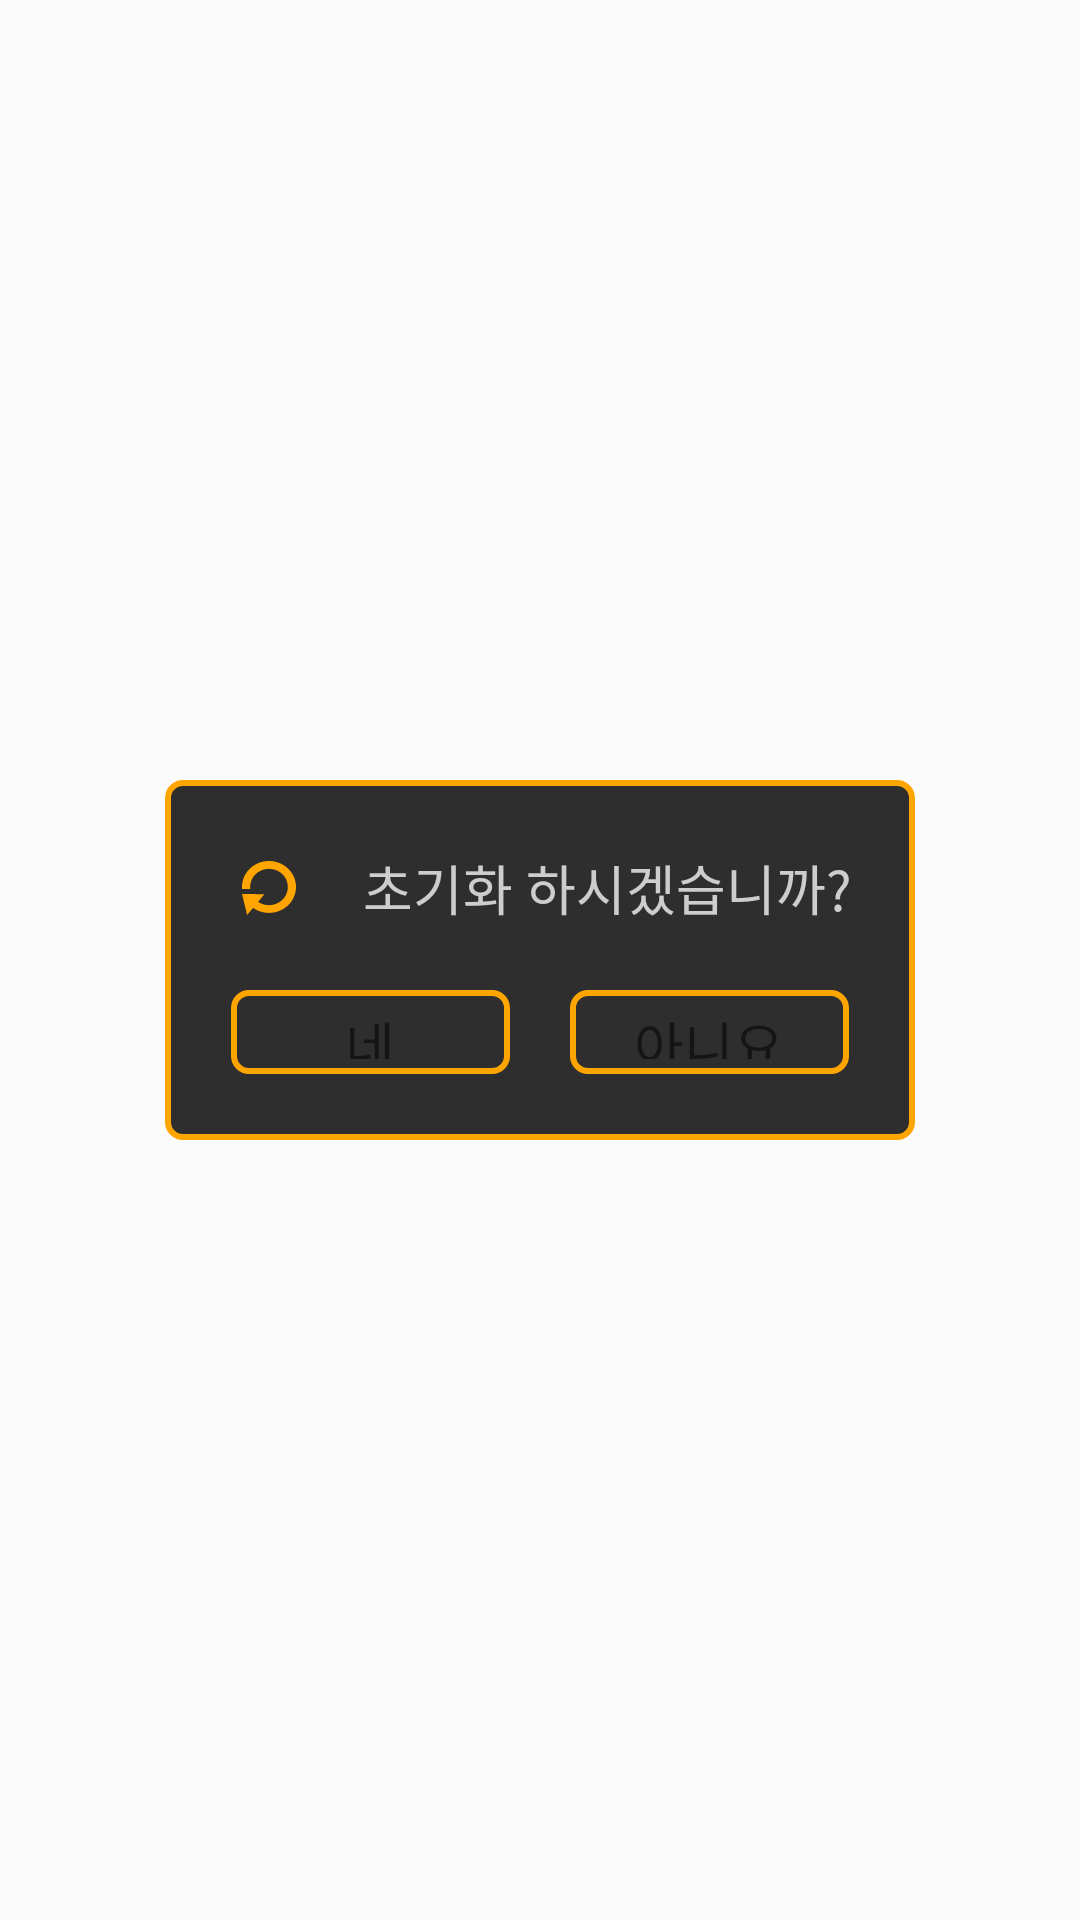

Locate icon controls on the screen. Image size 1080px x 1920px, boxes as (x1, y1, x2, y2).
reset: (242, 861, 296, 915)
